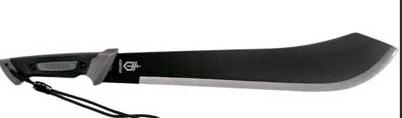MACHETTE: (0, 30, 402, 118)
